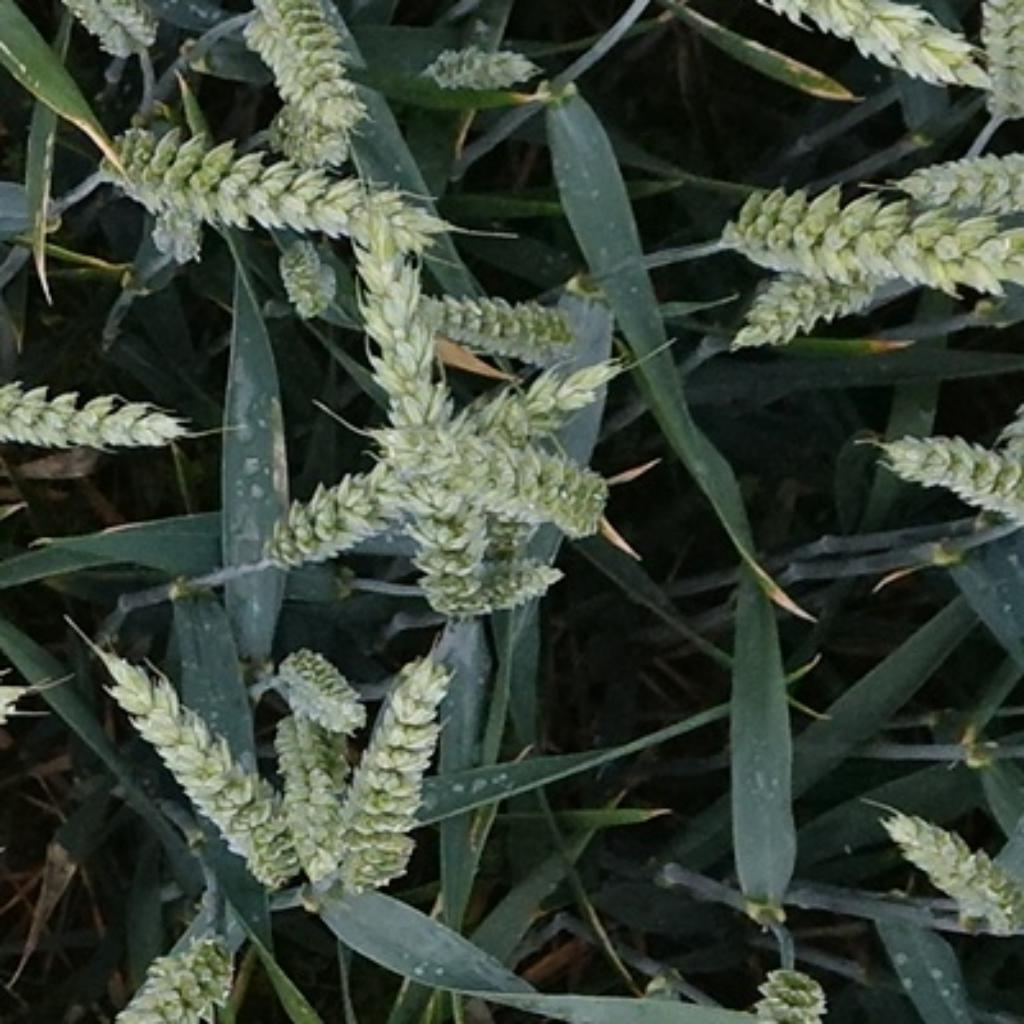0-0: (252, 352, 643, 572), (330, 168, 491, 611), (64, 645, 312, 908), (89, 122, 433, 247), (709, 184, 1024, 314), (332, 640, 464, 905), (371, 399, 609, 537), (0, 362, 221, 469), (756, 0, 993, 96), (872, 793, 1022, 939), (266, 704, 358, 901), (711, 265, 896, 357), (868, 417, 1019, 524), (102, 913, 240, 1024), (417, 276, 588, 363), (240, 0, 372, 105), (415, 558, 565, 633), (417, 29, 547, 109), (880, 145, 1021, 212), (274, 71, 372, 167), (276, 642, 371, 739), (962, 0, 1024, 125), (55, 0, 163, 63), (744, 956, 832, 1024), (139, 202, 219, 276), (263, 240, 332, 322)
